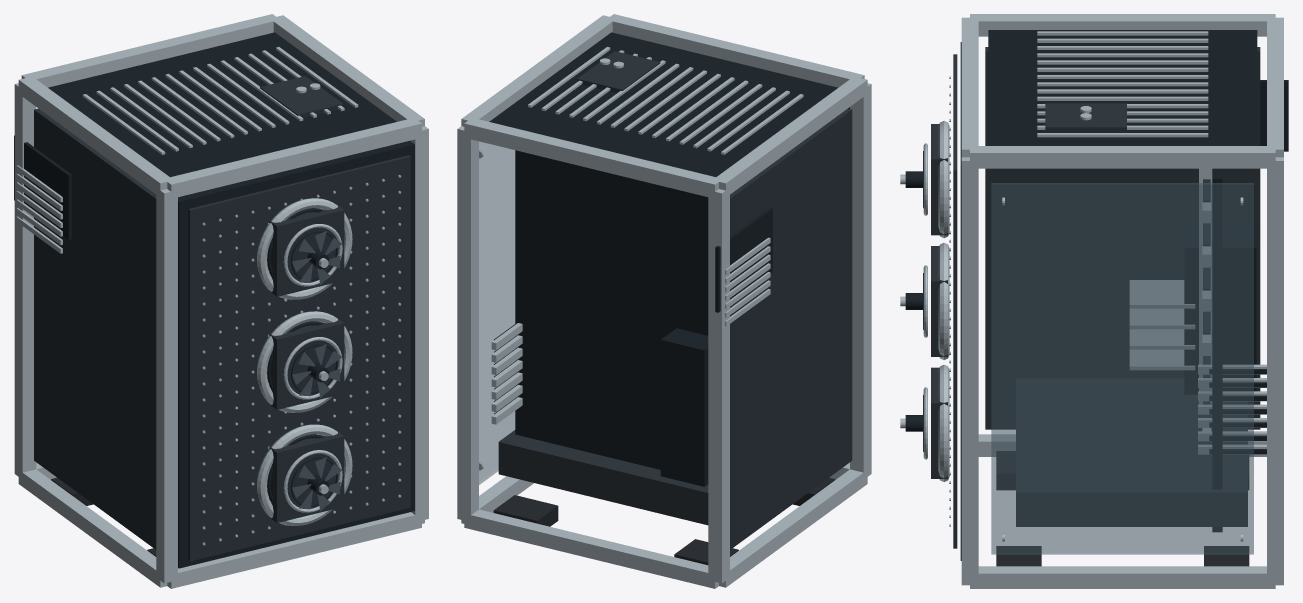
File: corsair-5000d.glb
3 renders of one model, left to right at view 1: azimuth 30°, elevation 25°; view 2: azimuth 150°, elevation 25°; view 3: azimuth 270°, elevation 25°, orthographic. The views are drawn at different scales.
Visible parts, largest first — view 1: corsair-5000d; view 2: corsair-5000d; view 3: corsair-5000d.
Boxes of the visible parts, x1=… form: corsair-5000d: x1=14, y1=14, x2=428, y2=588; corsair-5000d: x1=457, y1=14, x2=871, y2=588; corsair-5000d: x1=900, y1=14, x2=1288, y2=588.
Size of the model in its own units: 1.46 by 2.2 by 1.72.
